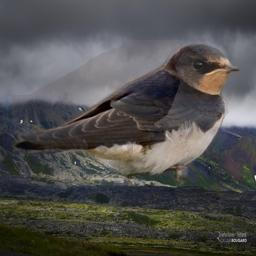Swallow: (12, 40, 241, 186)
